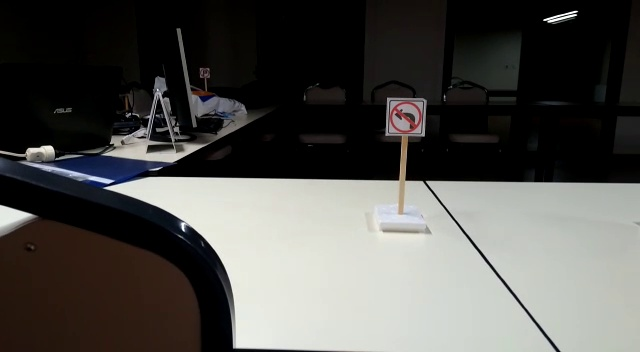sola_donulmez: (387, 98, 425, 135)
